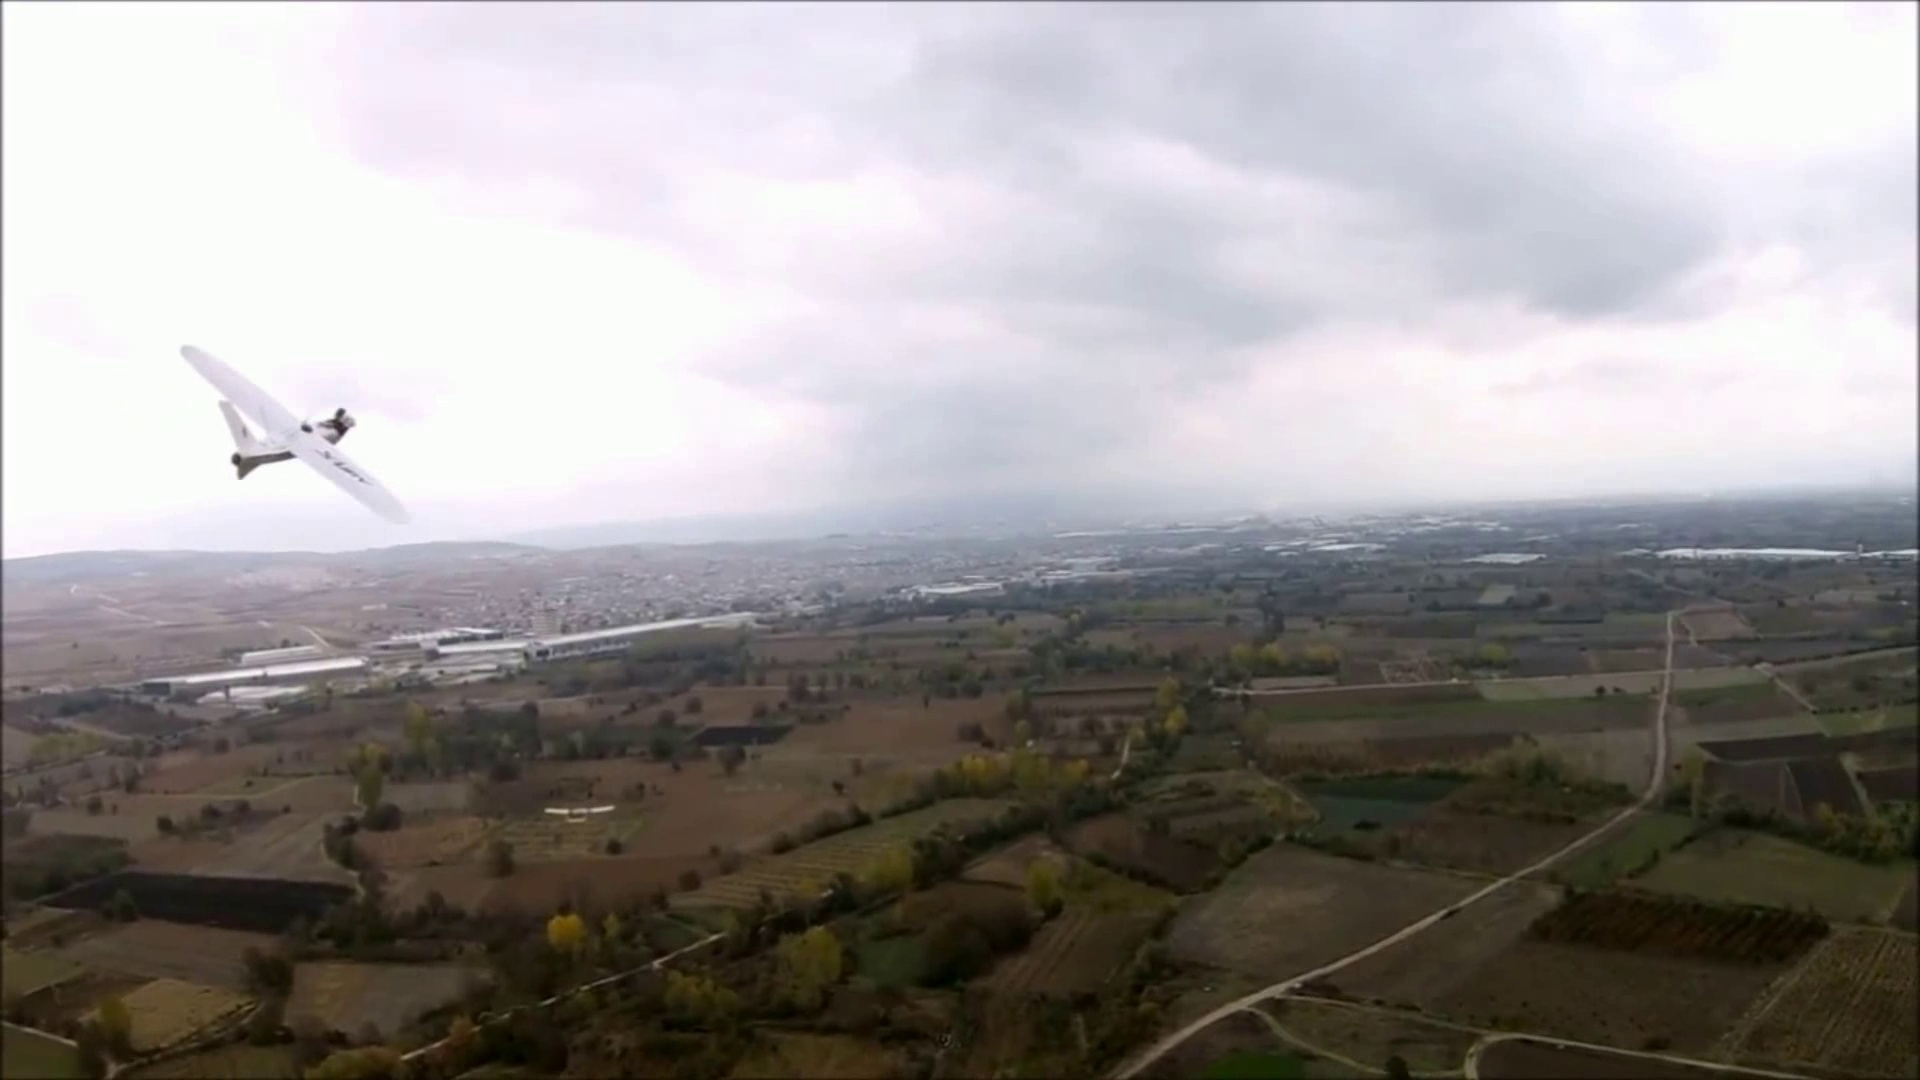airplane: (179, 346, 417, 526)
